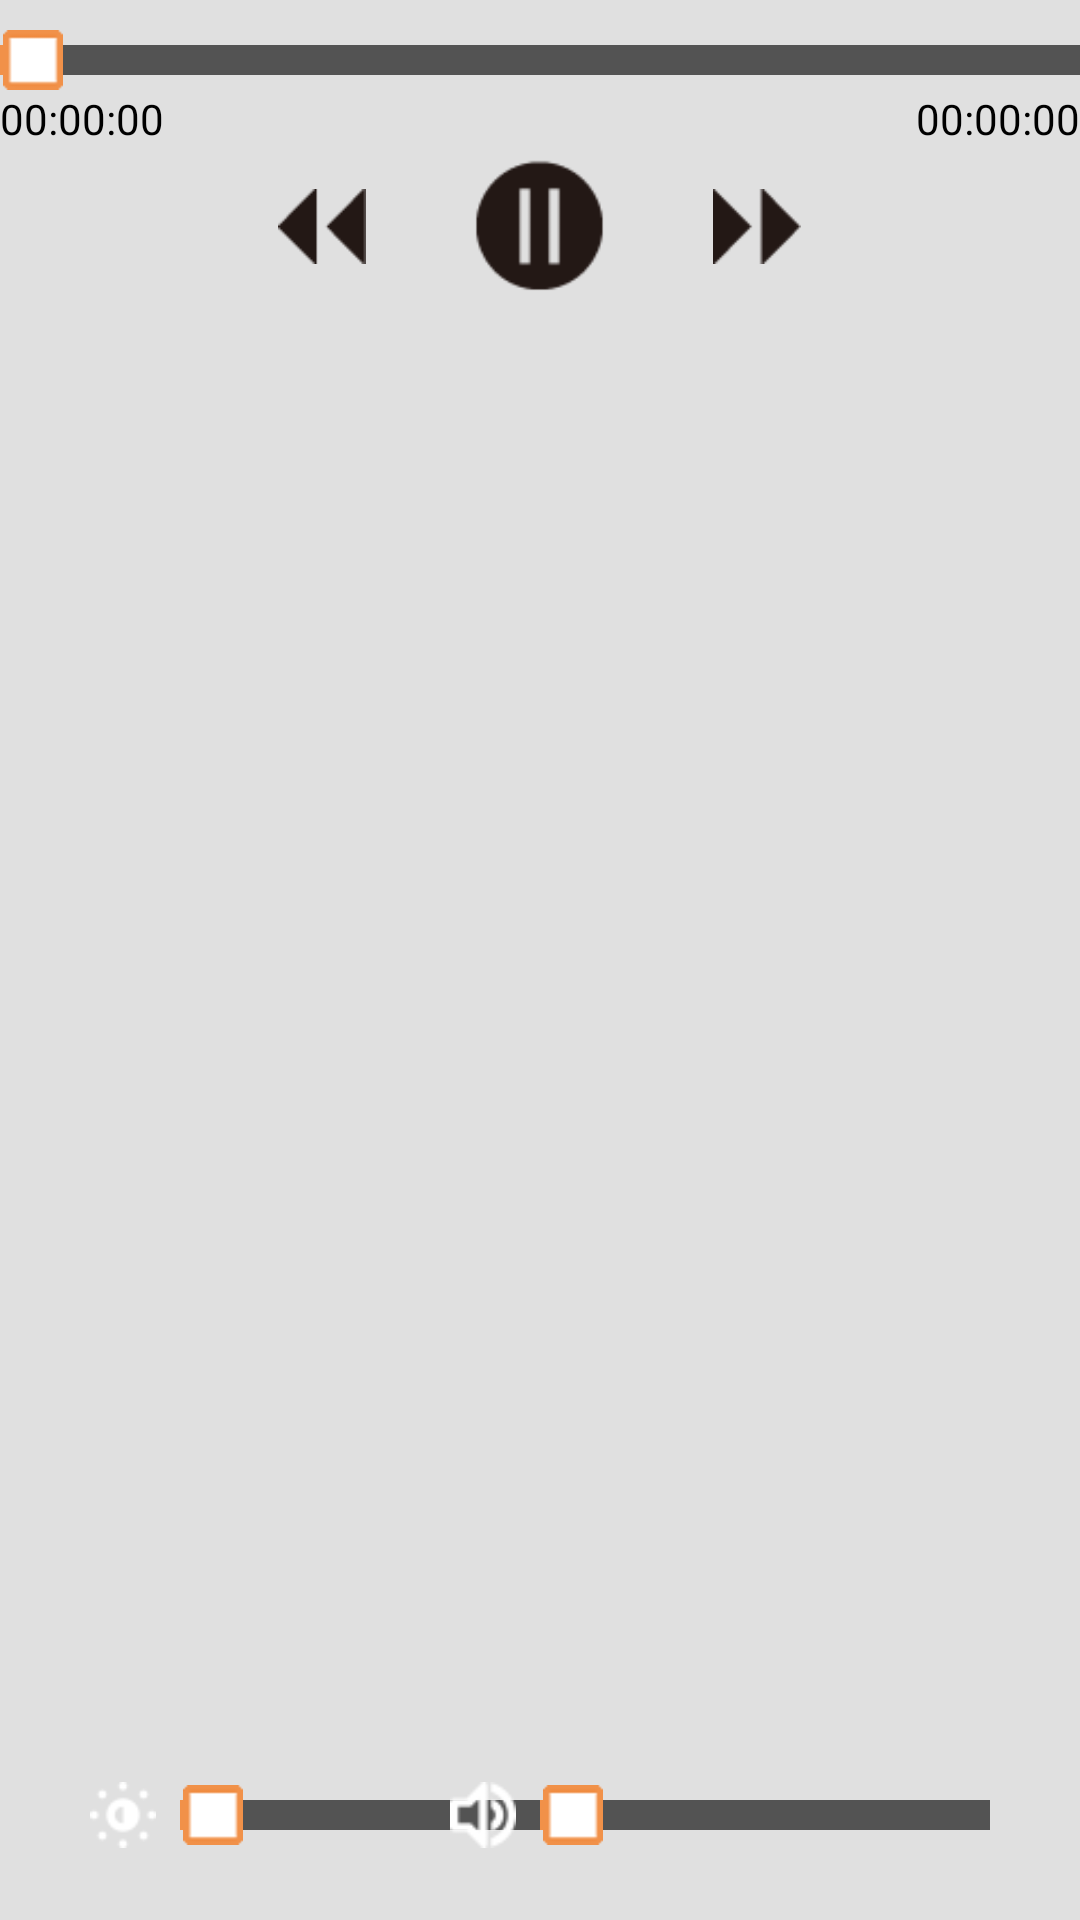

Icons on this 1080×1920 Android screen, each with the point to tap as point (x, y):
movie control addback: point (322, 226)
movie control addgo: point (757, 226)
movie control play: point (539, 225)
movie control voice: point (483, 1815)
